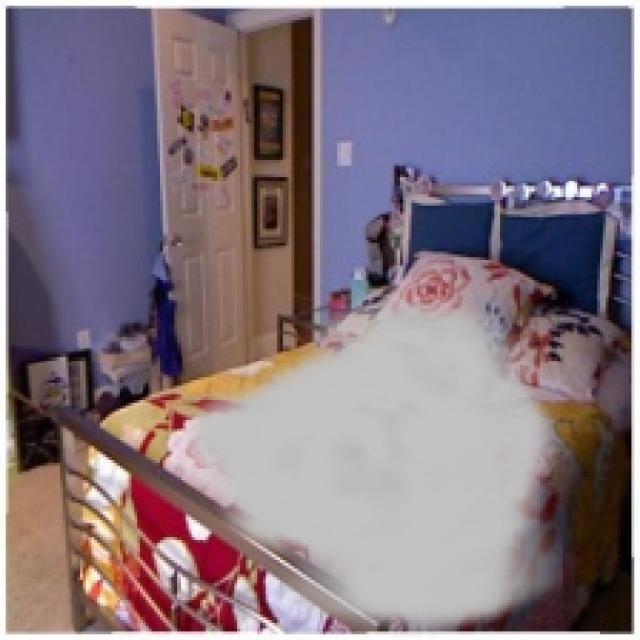smoke: (174, 286, 563, 637)
